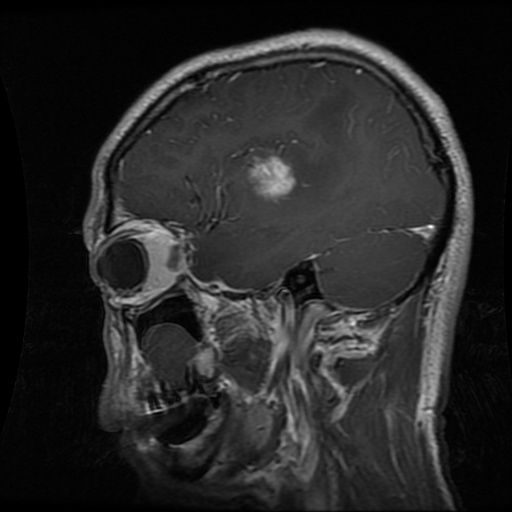glioma: (249, 156, 293, 202)
